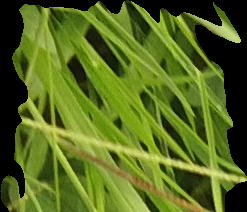grass: (1, 1, 246, 210)
